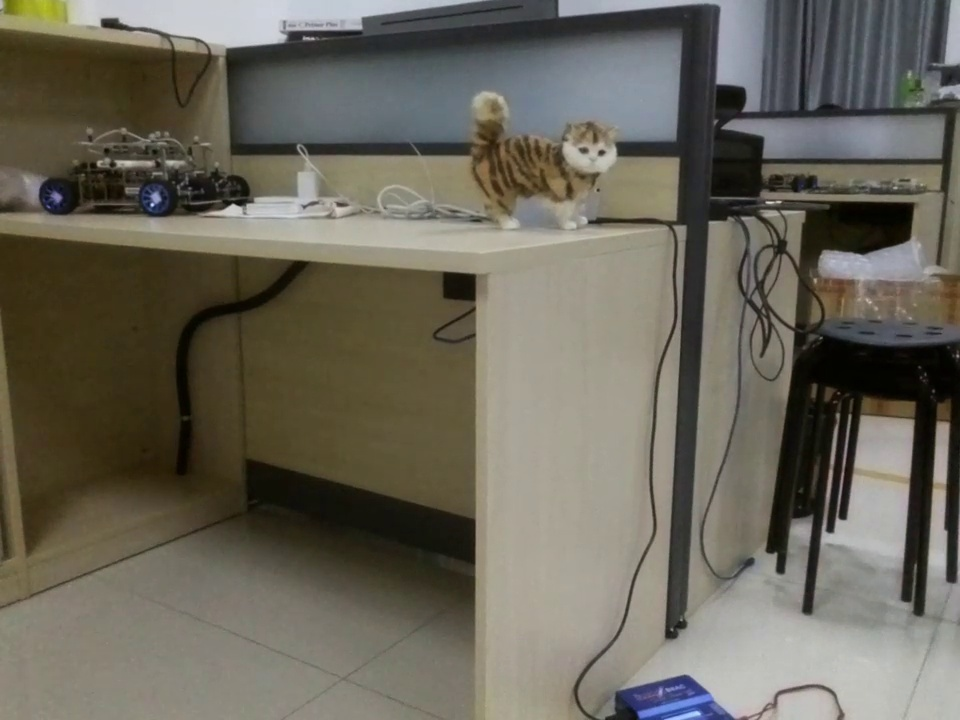cat: (454, 74, 637, 231)
